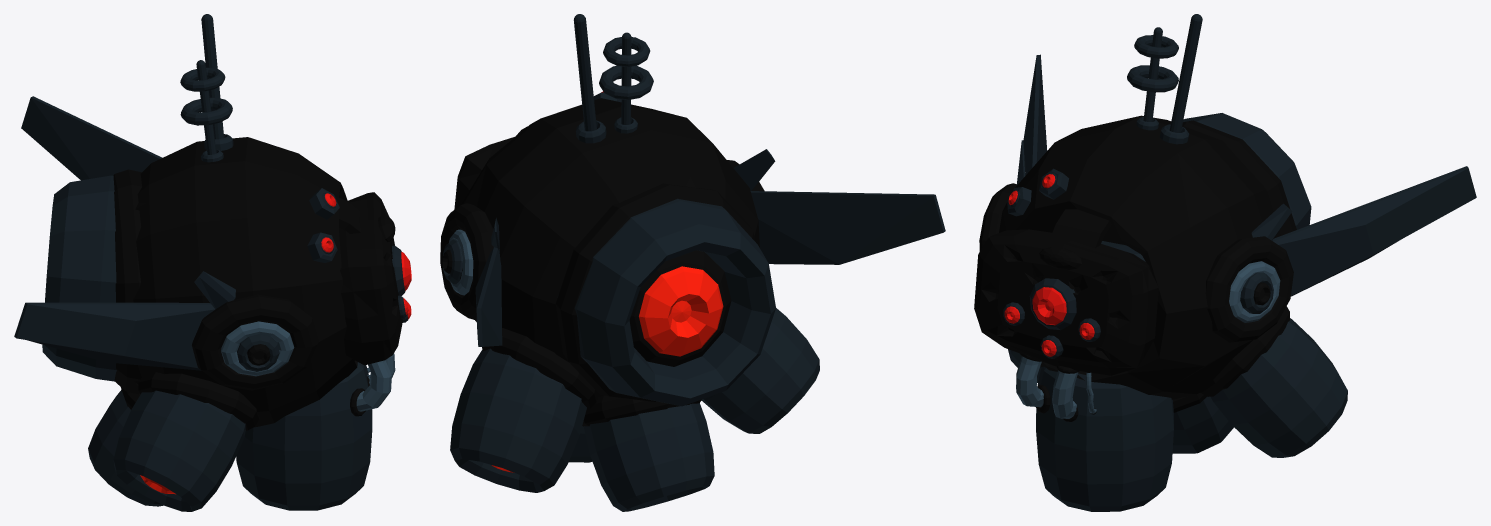
Rendered from model variant.obj.
3 renders of one model, left to right at view 1: azimuth 30°, elevation 25°; view 2: azimuth 150°, elevation 25°; view 3: azimuth 270°, elevation 25°, orthographic. The views are drawn at different scales.
Parts seen in each view (by area): view 1: group579868033, group950745974, group935379014, group340555124, group1900377273, group1629524082, group1880070904, group1574620923, group855398246, group1622754454, group1435881417, group1512876906 (+8 smaller); view 2: group579868033, group1900377273, group436029164, group340555124, group1512876906, group1384654718, group935379014, group855398246, group1435881417, group2073936651, group268984946, group1574620923 (+6 smaller); view 3: group579868033, group1629524082, group950745974, group436029164, group1574620923, group2073936651, group1900377273, group1435881417, group1512876906, group855398246, group1273343276, group606704065 (+9 smaller).
Boxes of the visible parts, <box> form: group579868033: <box>133,137,357,427</box>; group950745974: <box>236,362,372,510</box>; group935379014: <box>113,390,245,511</box>; group340555124: <box>14,302,214,370</box>; group1900377273: <box>42,175,116,381</box>; group1629524082: <box>135,192,402,365</box>; group1880070904: <box>192,294,318,390</box>; group1574620923: <box>21,96,162,180</box>; group855398246: <box>113,169,141,394</box>; group1622754454: <box>138,372,259,430</box>; group1435881417: <box>180,60,232,162</box>; group1512876906: <box>88,390,163,506</box>; group579868033: <box>461,98,759,397</box>; group1900377273: <box>557,198,775,406</box>; group436029164: <box>450,348,586,492</box>; group340555124: <box>750,191,945,264</box>; group1512876906: <box>583,403,714,511</box>; group1384654718: <box>629,250,731,366</box>; group935379014: <box>701,308,819,433</box>; group855398246: <box>555,183,754,401</box>; group1435881417: <box>599,32,653,133</box>; group2073936651: <box>440,203,500,319</box>; group268984946: <box>482,328,597,408</box>; group1574620923: <box>475,247,502,346</box>; group579868033: <box>999,115,1280,399</box>; group1629524082: <box>974,209,1158,375</box>; group950745974: <box>1036,366,1173,511</box>; group436029164: <box>1210,318,1347,457</box>; group1574620923: <box>1272,166,1476,296</box>; group2073936651: <box>1205,236,1293,342</box>; group1900377273: <box>1183,113,1311,229</box>; group1435881417: <box>1127,27,1178,130</box>; group1512876906: <box>1172,396,1233,453</box>; group855398246: <box>1182,120,1296,235</box>; group1273343276: <box>1029,278,1076,330</box>; group606704065: <box>1160,14,1202,144</box>.
Bounding box in the file's own units: 2.68 × 2.83 × 2.77.
